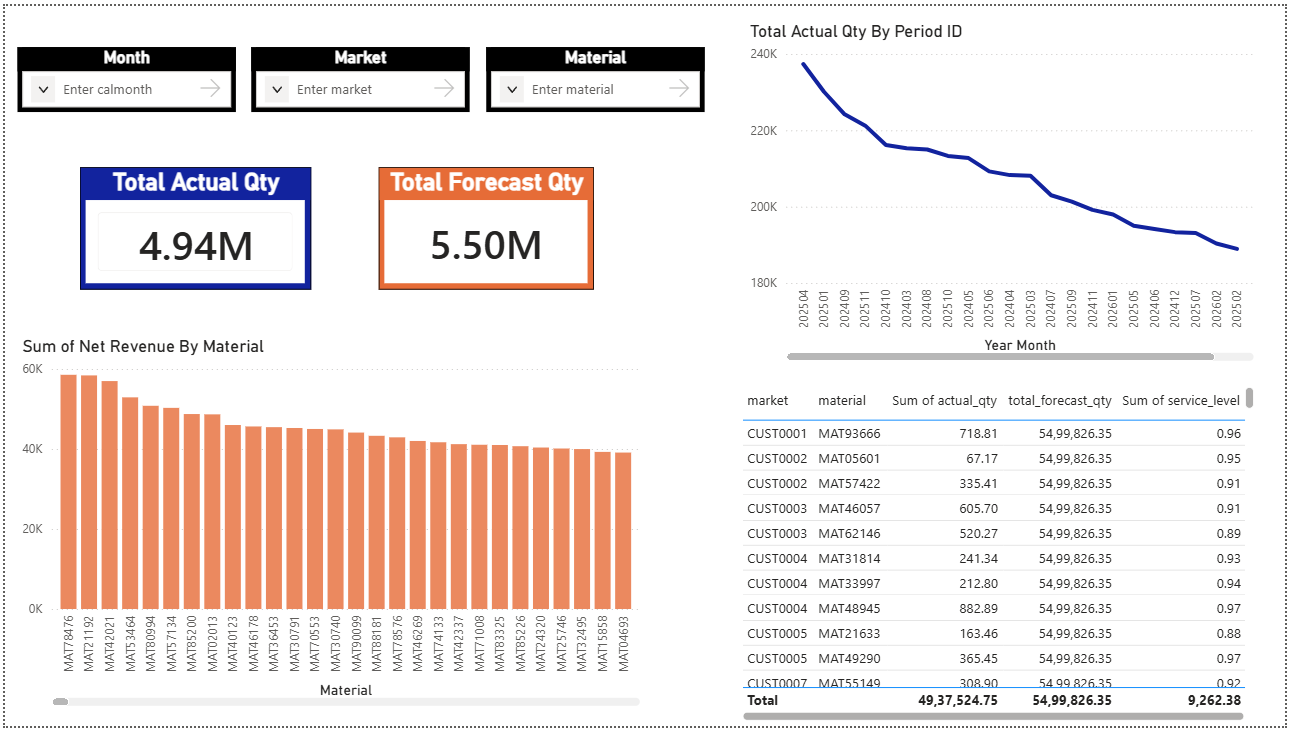

This screenshot's page, from the dashboard's own definition file:
{"tool":"powerbi","page":{"name":"Demand Analysis","canvas":[1280,720],"ordinal":2},"visuals":[{"type":"lineChart","title":"Total Actual Qty By Period ID","fields":{"Category":["fact_demand_actual.period_id"],"Y":["fact_demand_actual.total_actual_qty"]},"box":[740,15,513.8,345],"z":0},{"type":"clusteredColumnChart","title":"Sum of Net Revenue By Material","fields":{"Category":["fact_demand_actual.material"],"Y":["Sum(fact_demand_actual.net_revenue)"]},"box":[12.5,330,627.5,375],"z":1000},{"type":"tableEx","fields":{"Values":["fact_demand_actual.market","fact_demand_actual.material","Sum(fact_demand_actual.actual_qty)","fact_demand_forecast.total_forecast_qty","Sum(fact_demand_actual.service_level)"]},"box":[731.2,376.2,522.5,343.8],"z":2000},{"type":"cardVisual","title":"Total Actual Qty","fields":{"Data":["fact_demand_actual.total_actual_qty"]},"box":[75,161.2,231.2,122.5],"z":3000},{"type":"cardVisual","title":"Total Forecast Qty","fields":{"Data":["fact_demand_forecast.total_forecast_qty"]},"box":[373.8,161.2,215,122.5],"z":4000},{"type":"textSlicer","title":"Market","fields":{"Values":["fact_demand_actual.market"]},"box":[246.2,41.2,218.8,65],"z":5000},{"type":"textSlicer","title":"Month","fields":{"Values":["dim_date.calmonth"]},"box":[12.5,41.2,218.8,65],"z":6000},{"type":"textSlicer","title":"Material","fields":{"Values":["fact_demand_actual.material"]},"box":[481.2,41.2,218.8,65],"z":7000}]}

Visuals, with their boxes in screenshot pixels (x1, y1, x2, y2), scaled from the page's 1280x720 canvas onto the 1290x731 screenshot:
"Total Actual Qty By Period ID" lineChart: region(746, 15, 1264, 366)
"Sum of Net Revenue By Material" clusteredColumnChart: region(13, 335, 645, 716)
tableEx - fact_demand_actual.market x fact_demand_actual.material: region(737, 382, 1263, 730)
"Total Actual Qty" cardVisual: region(76, 164, 309, 288)
"Total Forecast Qty" cardVisual: region(377, 164, 593, 288)
"Market" textSlicer: region(248, 42, 469, 108)
"Month" textSlicer: region(13, 42, 233, 108)
"Material" textSlicer: region(485, 42, 705, 108)
